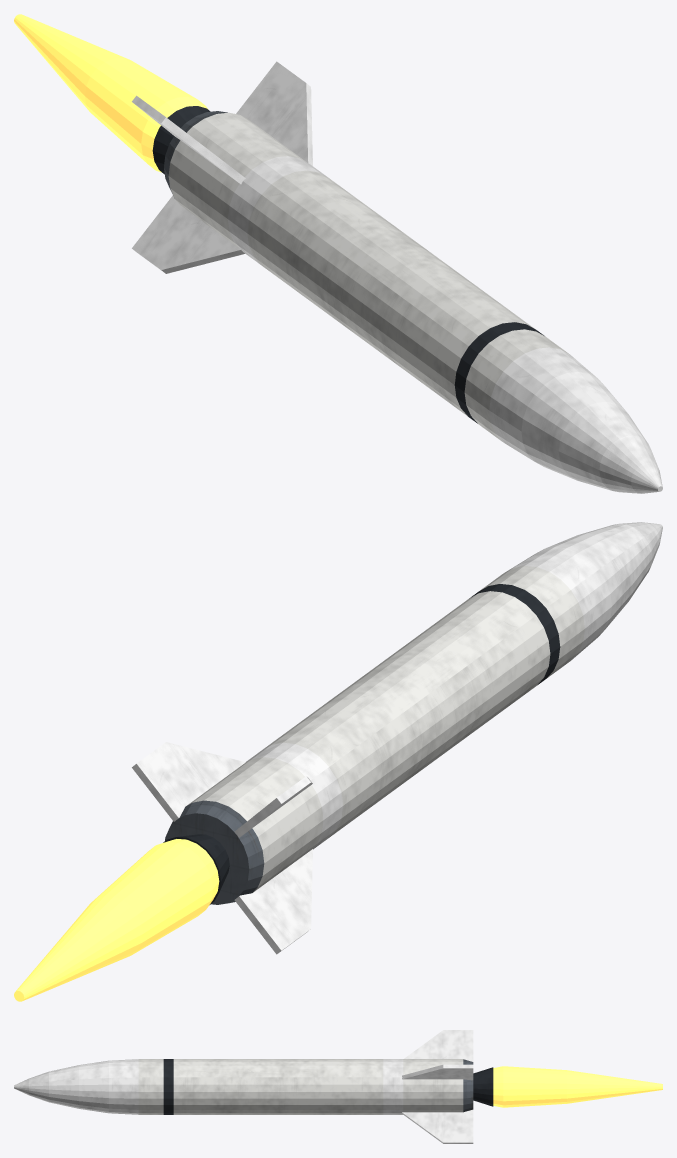
The model's file is atom_bomb.gltf.
The picture shows the model from 3 angles, top to bottom: view 1: azimuth 30°, elevation 25°; view 2: azimuth 150°, elevation 25°; view 3: azimuth 270°, elevation 25°; orthographic projection. The views are drawn at different scales.
Visible parts, largest first — view 1: AtomBomb; view 2: AtomBomb; view 3: AtomBomb.
Part boxes in pixels (<box>): AtomBomb: <box>14,14,662,493</box>; AtomBomb: <box>14,522,662,1001</box>; AtomBomb: <box>14,1030,662,1143</box>.
Bounding box in the file's own units: 0.1754 × 0.1754 × 1.3.
Materials: 5 (4 with a texture image).
